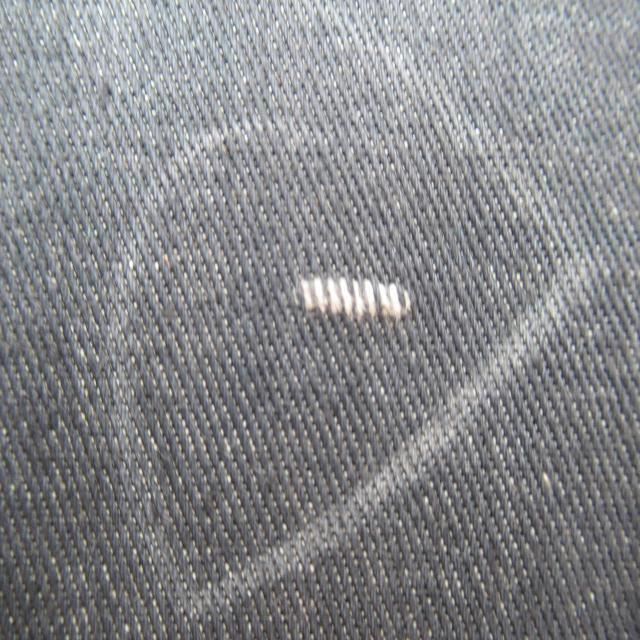pulled_or_thick_thread: (298, 277, 378, 319), (379, 283, 410, 318)
